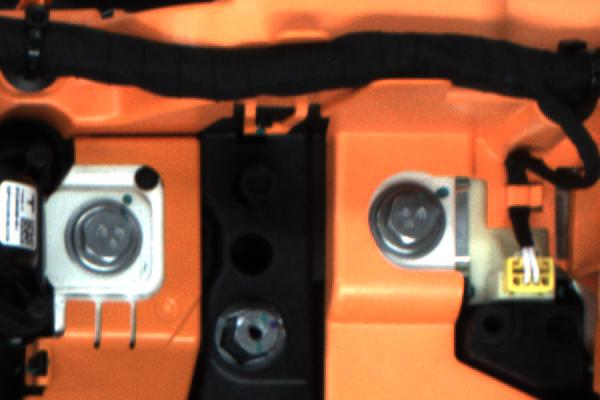nut_b: (363, 177, 458, 264), (59, 195, 157, 279)
